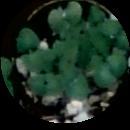Basil: (18, 29, 45, 75), (44, 1, 81, 31), (95, 55, 123, 90), (58, 69, 92, 96), (31, 73, 67, 95), (87, 8, 109, 41), (52, 36, 78, 57), (37, 51, 69, 68), (106, 20, 127, 43)
